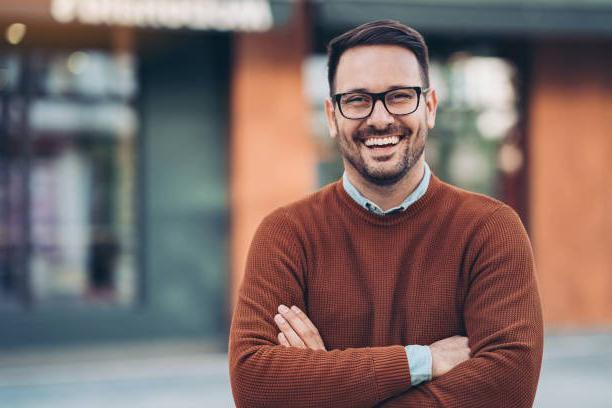Sober: (335, 50, 424, 178)
